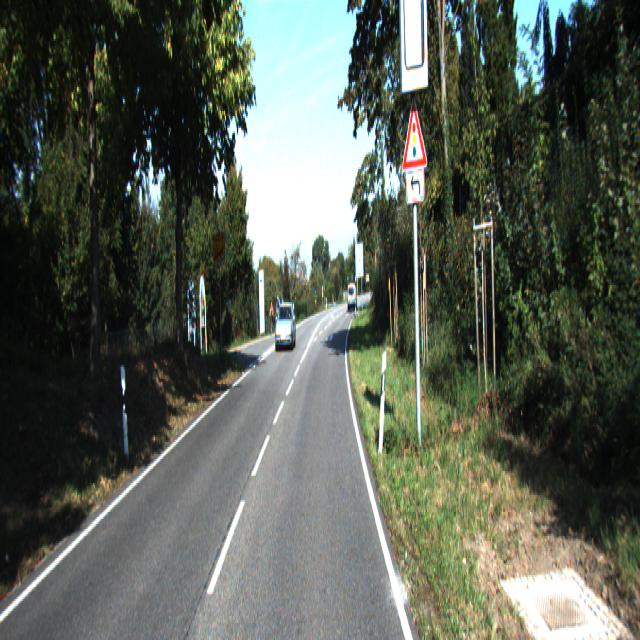Car: (275, 302, 296, 352)
